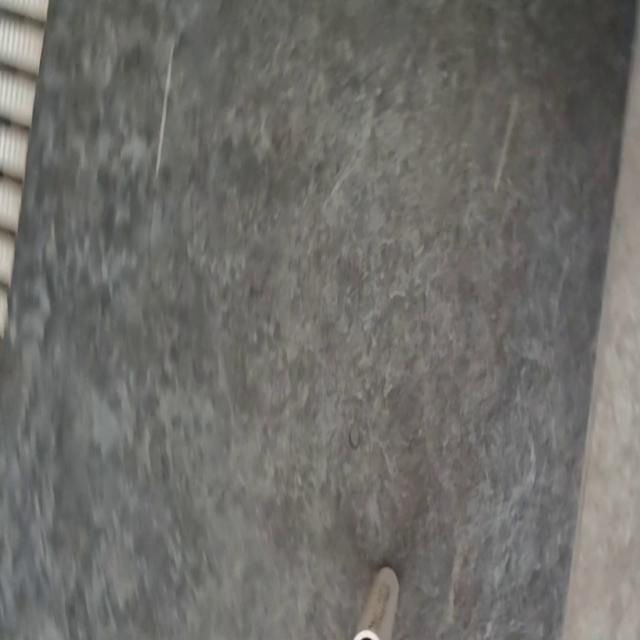Cube: (352, 564, 400, 638)
